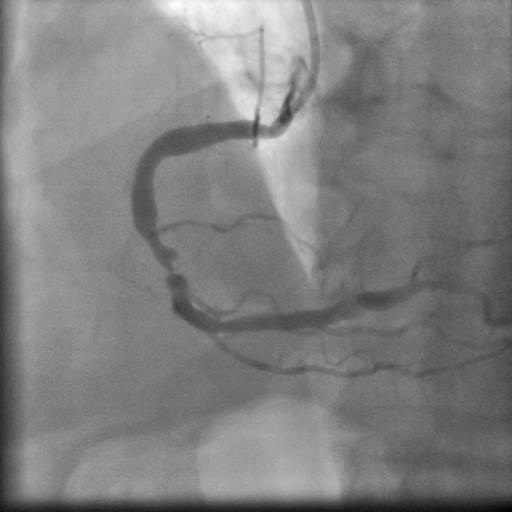Stenosis: (141, 240, 193, 285)
